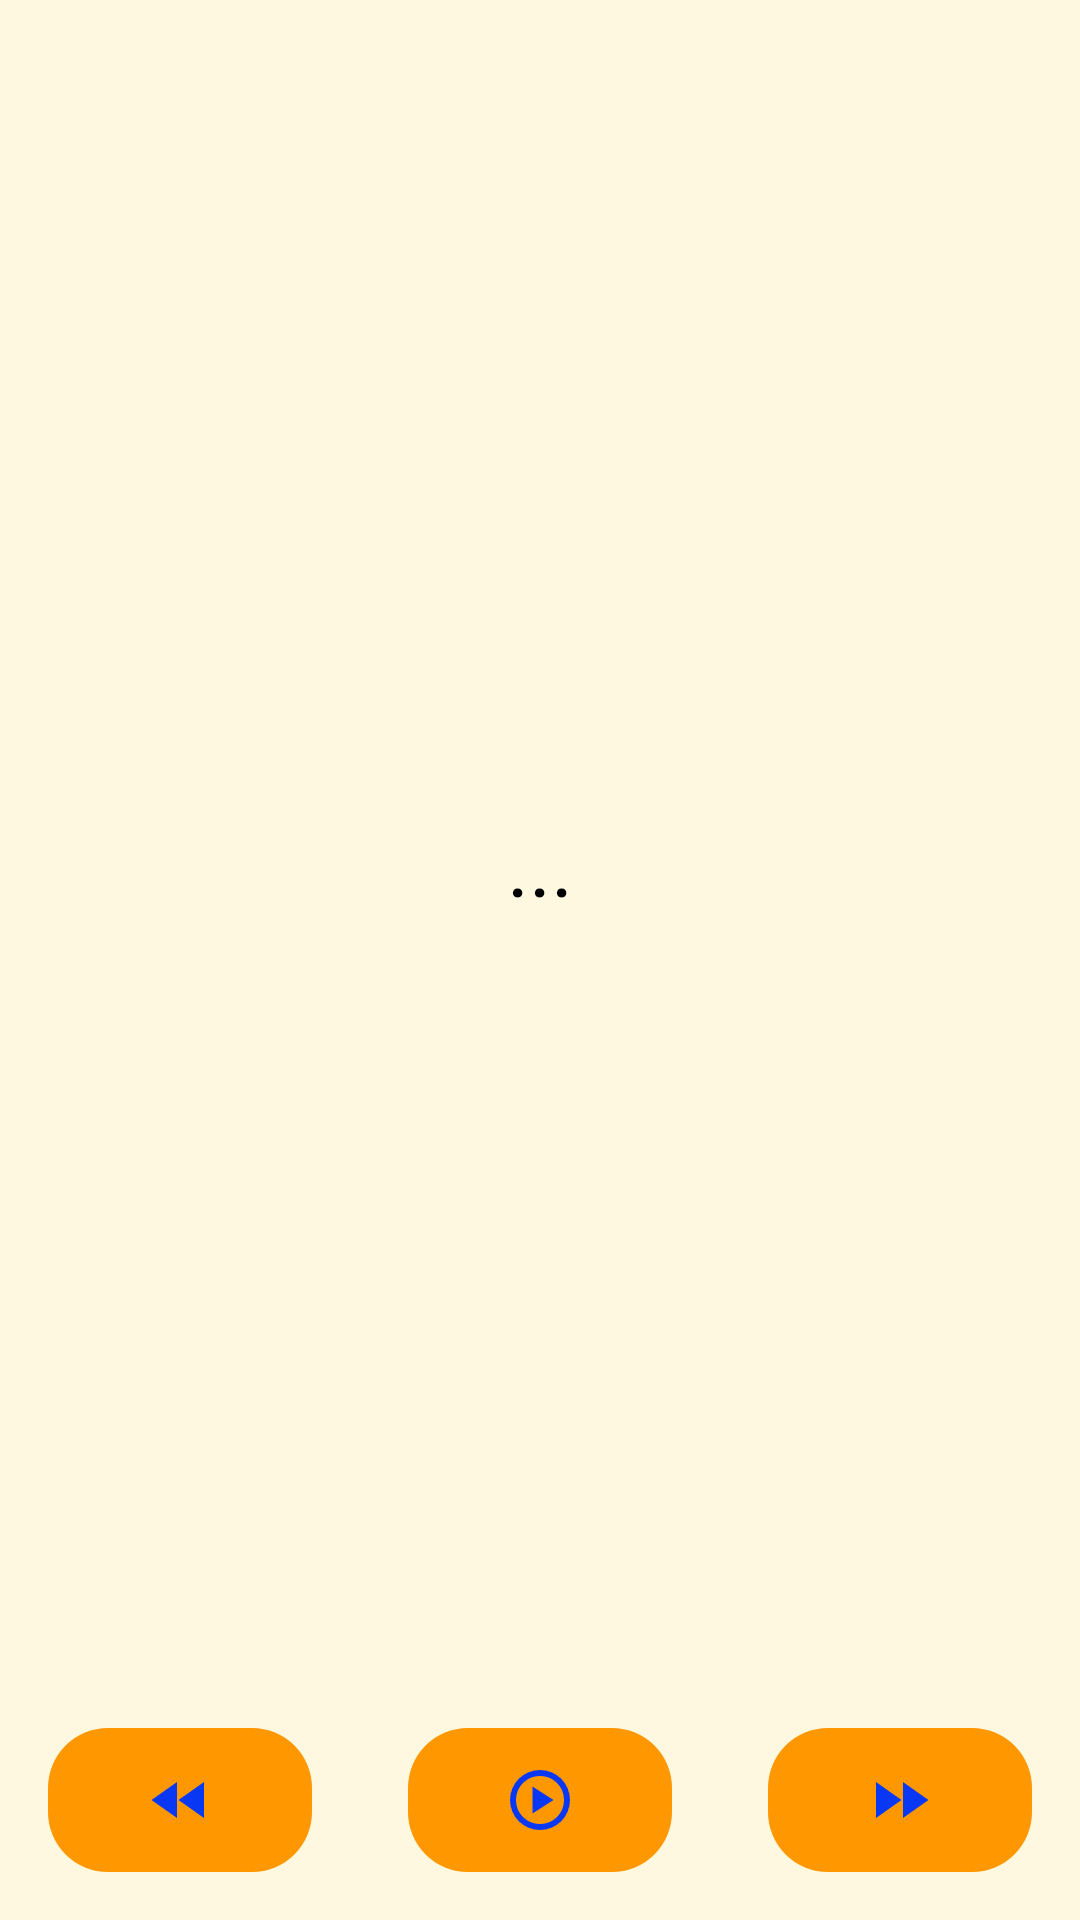

Icons on this 1080 × 1920 Android screen, each with the point to tap as [x,y]:
Next sentence: [900,1800]
Play/Pause: [540,1800]
Previous sentence: [180,1800]
